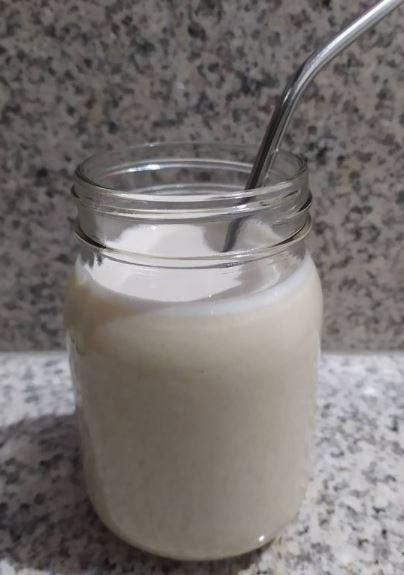produk_susu: (113, 175, 268, 536)
